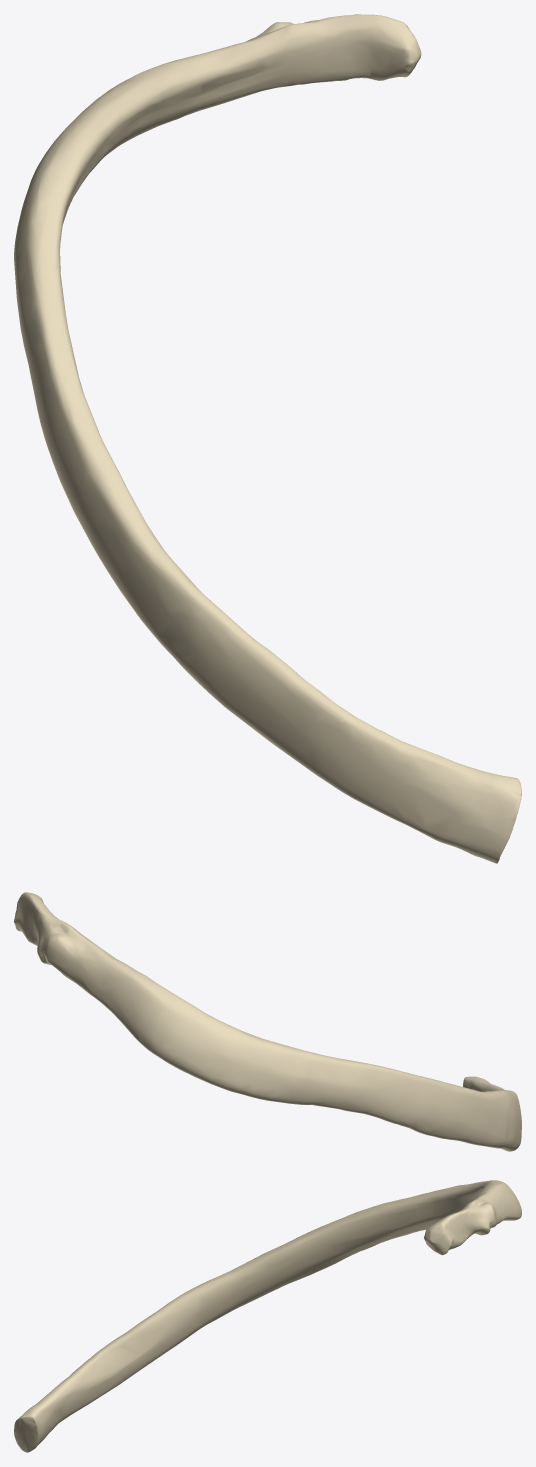
File: esqueleto-fifth-rib-r.glb
The picture shows the model from 3 angles, top to bottom: view 1: azimuth 30°, elevation 25°; view 2: azimuth 150°, elevation 25°; view 3: azimuth 270°, elevation 25°; orthographic projection. The views are drawn at different scales.
Parts seen in each view (by area): view 1: Fifth rib.r; view 2: Fifth rib.r; view 3: Fifth rib.r.
Boxes of the visible parts, box(x1,y1,x2,y2) form: Fifth rib.r: box(14, 14, 521, 863); Fifth rib.r: box(14, 892, 521, 1151); Fifth rib.r: box(14, 1180, 521, 1452).
Size of the model in its own units: 0.1158 by 0.126 by 0.1893.
